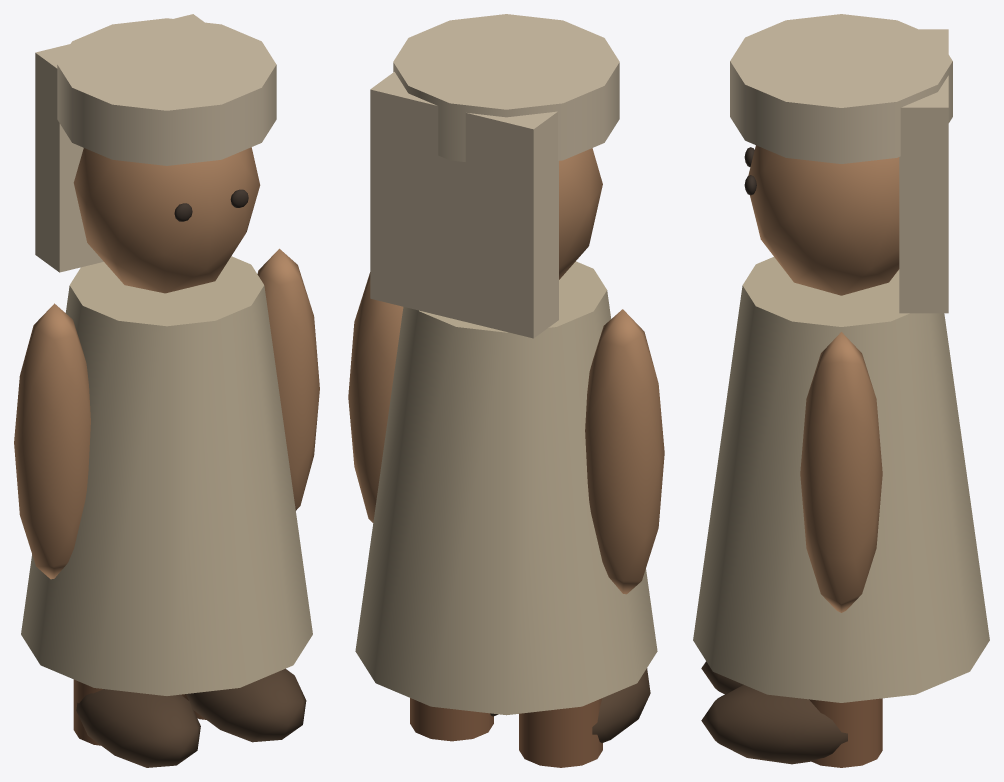
File: resident-zeria.glb
3 renders of one model, left to right at view 1: azimuth 30°, elevation 25°; view 2: azimuth 150°, elevation 25°; view 3: azimuth 270°, elevation 25°, orthographic. The views are drawn at different scales.
Visible parts, largest first — view 1: resident-zeria; view 2: resident-zeria; view 3: resident-zeria.
Part boxes in pixels (x1,y1,x2,y2): resident-zeria: [14, 14, 319, 767]; resident-zeria: [348, 14, 664, 767]; resident-zeria: [693, 14, 989, 767].
Bounding box in the file's own units: 0.84 × 1.79 × 0.72.
